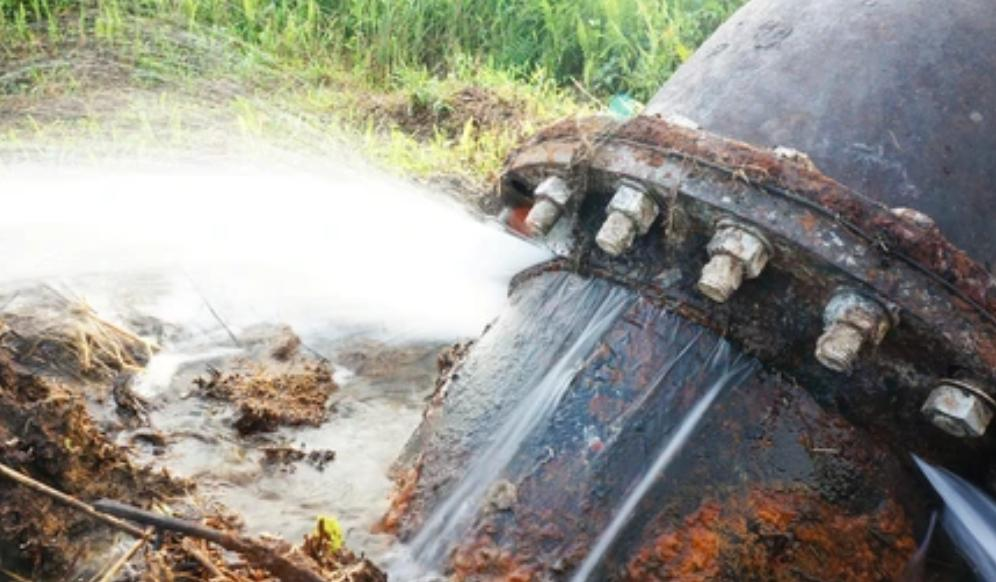pipe burst: (0, 36, 575, 347), (904, 451, 996, 582)
water accumulation: (112, 342, 462, 550)
